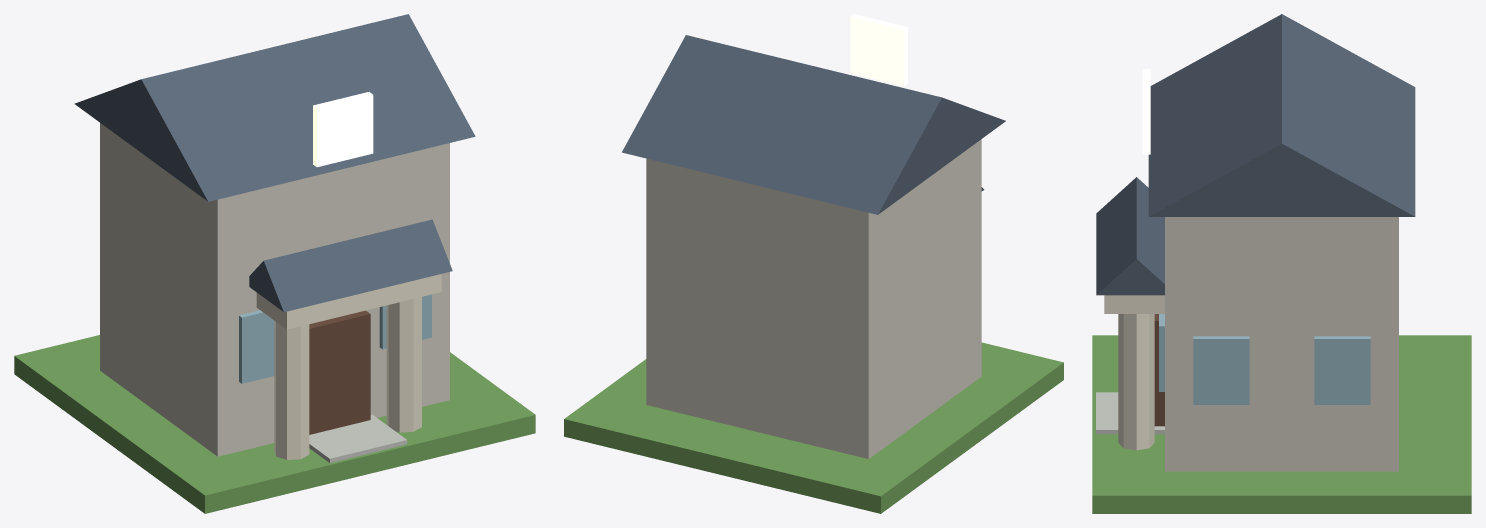
The model's file is cityHall-3.glb.
3 views of the same model, side by side, from view 1: azimuth 30°, elevation 25°; view 2: azimuth 150°, elevation 25°; view 3: azimuth 270°, elevation 25° (orthographic). The views are drawn at different scales.
Parts seen in each view (by area): view 1: cityHall-3; view 2: cityHall-3; view 3: cityHall-3.
Part boxes in pixels (<box>): cityHall-3: <box>14,14,535,513</box>; cityHall-3: <box>564,14,1063,513</box>; cityHall-3: <box>1092,14,1471,513</box>.
Bounding box in the file's own units: 0.94 × 0.97 × 0.94.
